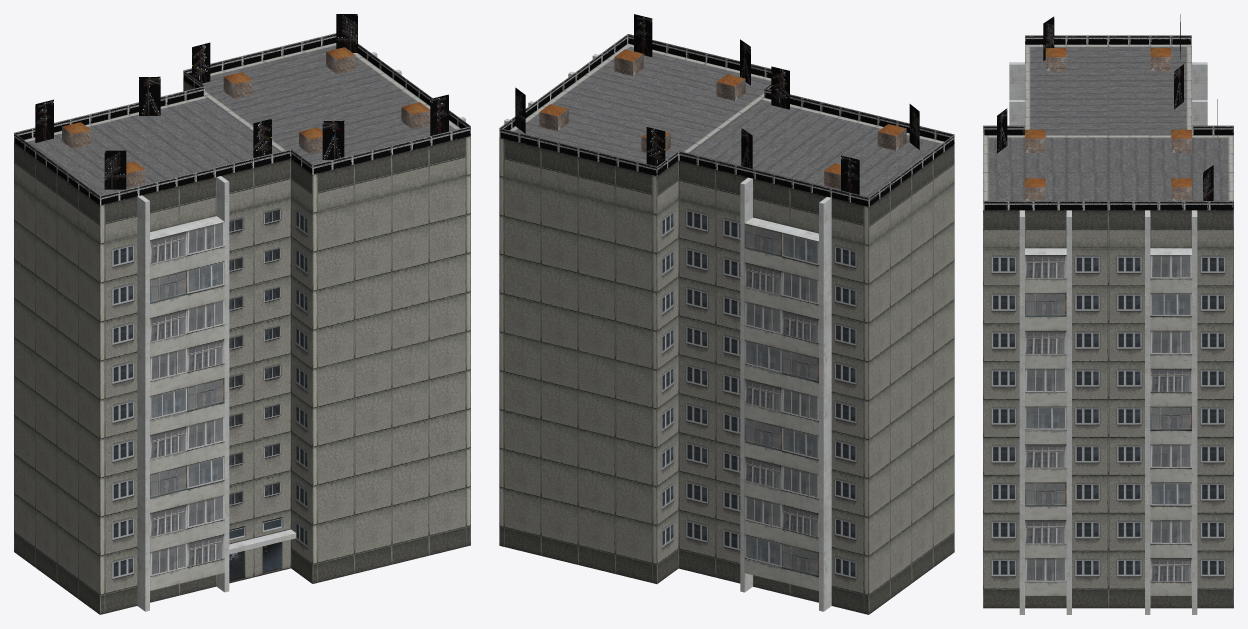
Rendered from rus_build_9et_01.fbx.
3 renders of one model, left to right at view 1: azimuth 30°, elevation 25°; view 2: azimuth 150°, elevation 25°; view 3: azimuth 270°, elevation 25°, orthographic. The views are drawn at different scales.
Parts seen in each view (by area): view 1: Regroup13, rus_build_dec_01; view 2: Regroup13, rus_build_dec_01; view 3: Regroup13, rus_build_dec_01.
Boxes of the visible parts, bbox=[...] form: Regroup13: bbox=[14, 43, 470, 614]; rus_build_dec_01: bbox=[14, 14, 470, 205]; Regroup13: bbox=[499, 43, 954, 614]; rus_build_dec_01: bbox=[499, 14, 954, 206]; Regroup13: bbox=[983, 44, 1233, 614]; rus_build_dec_01: bbox=[983, 14, 1233, 210].
Bounding box in the file's own units: 2730 × 3220 × 1680.
